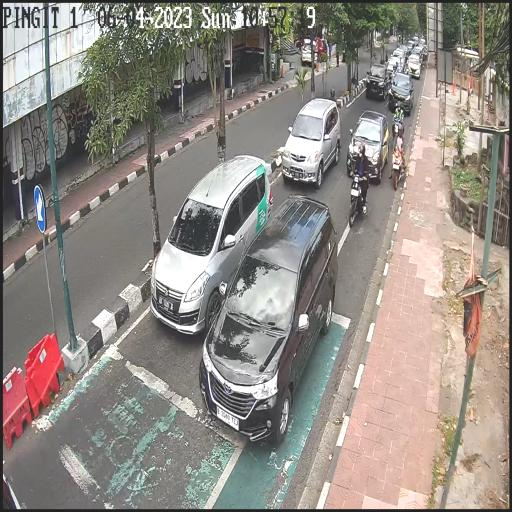mobil: (199, 193, 340, 452), (150, 146, 272, 339), (278, 96, 341, 186), (348, 106, 389, 182), (388, 72, 414, 114), (366, 60, 390, 102), (407, 55, 421, 79), (386, 56, 400, 80), (392, 49, 404, 72)
motor: (346, 166, 370, 230), (388, 146, 406, 193), (391, 112, 406, 149)
